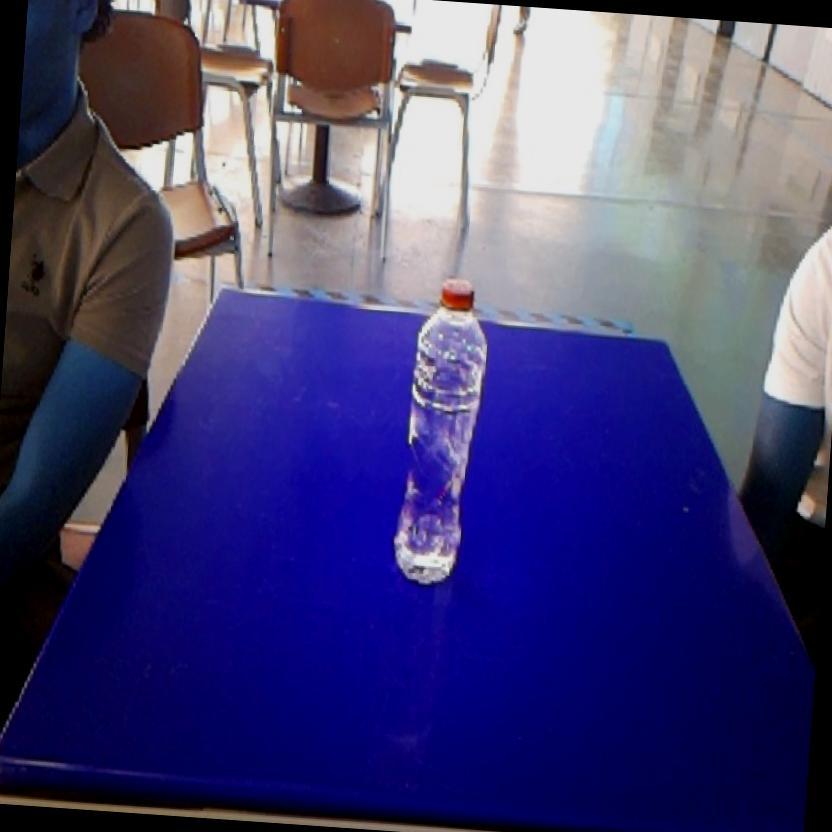no_label: (384, 267, 497, 603)
